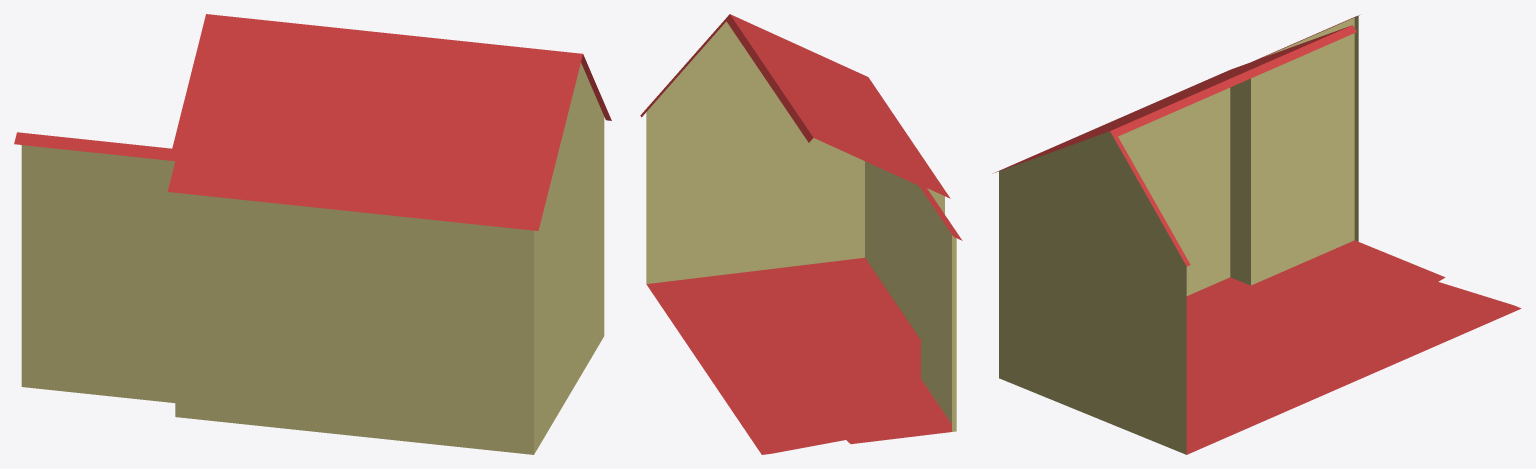
3 views of the same model, side by side, from view 1: azimuth 30°, elevation 25°; view 2: azimuth 150°, elevation 25°; view 3: azimuth 270°, elevation 25° (orthographic). The views are drawn at different scales.
Bounding box in the file's own units: 23.45 × 23.75 × 14.61.
